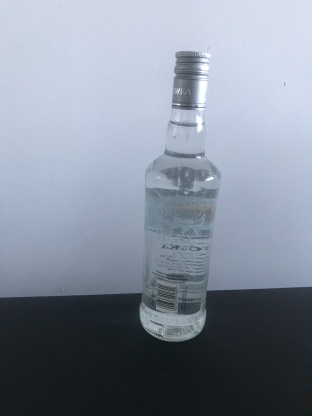nakretka: (170, 45, 212, 111)
